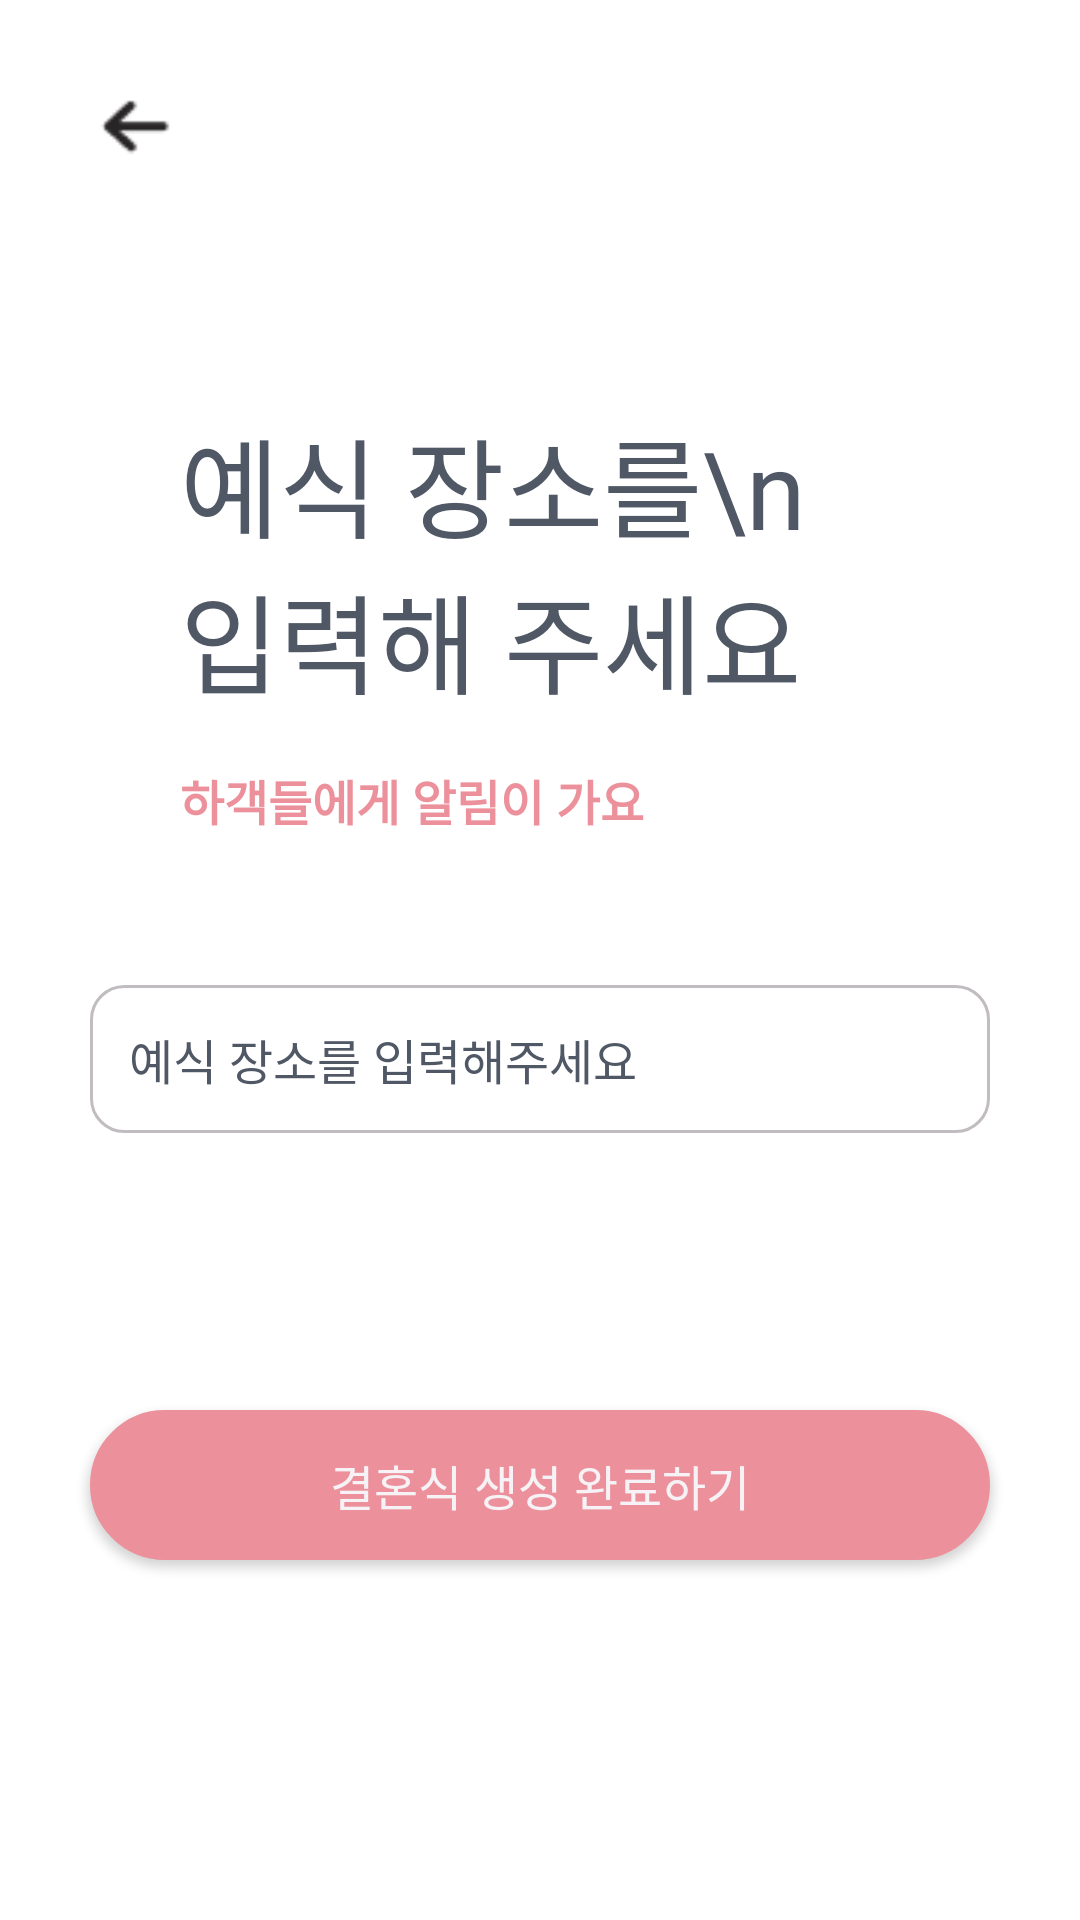

Locate icon controls on the screen. Image size 1080w x 1920h, boxes as (x1, y1, x2, y2).
back arrow: (103, 100, 169, 153)
